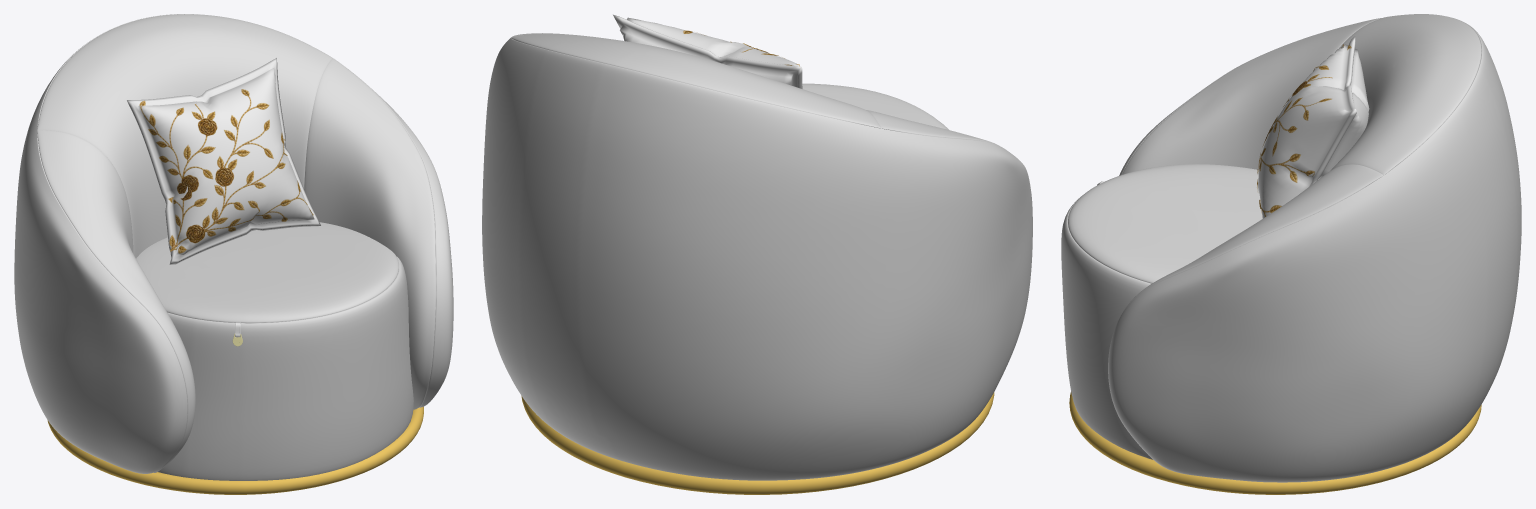
Rendered from SLN_LAVINIA_1STR.glb.
The picture shows the model from 3 angles, left to right: view 1: azimuth 30°, elevation 25°; view 2: azimuth 150°, elevation 25°; view 3: azimuth 270°, elevation 25°; orthographic projection. The views are drawn at different scales.
Visible parts, largest first — view 1: LAVINIA_1STR, Cushion; view 2: LAVINIA_1STR, Cushion; view 3: LAVINIA_1STR, Cushion.
Boxes of the visible parts, x1,y1,x2,y2 form: LAVINIA_1STR: (14,14,453,494); Cushion: (127,58,320,264); LAVINIA_1STR: (482,33,1032,494); Cushion: (613,14,802,88); LAVINIA_1STR: (1061,14,1521,494); Cushion: (1257,36,1369,218).
Bounding box in the file's own units: 0.8727 × 0.7431 × 0.8549.
Materials: 5 (1 with a texture image).
